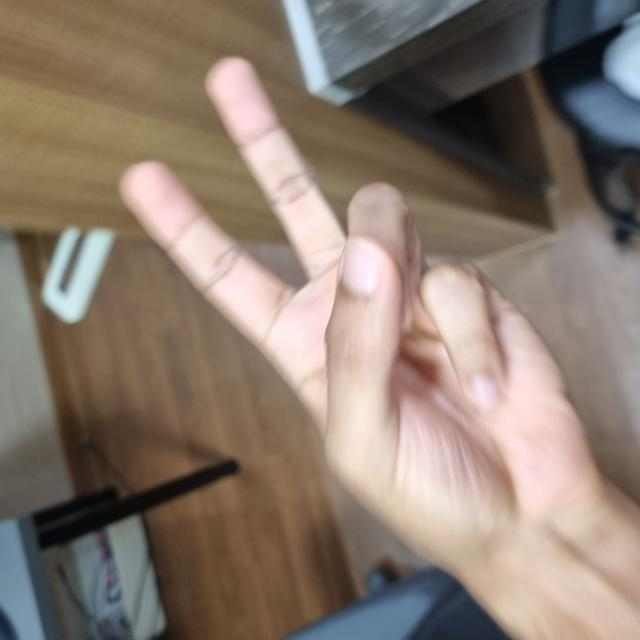Scissors: (91, 126, 577, 591)
